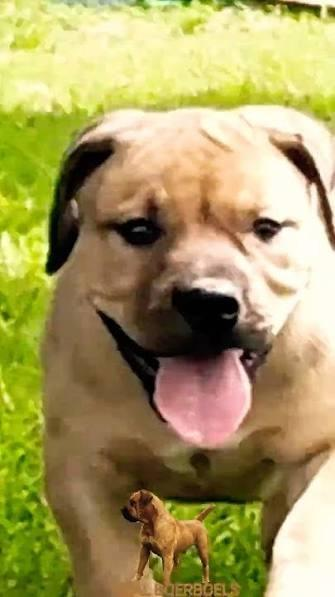adult_dog: (40, 100, 335, 597), (117, 489, 215, 586)
